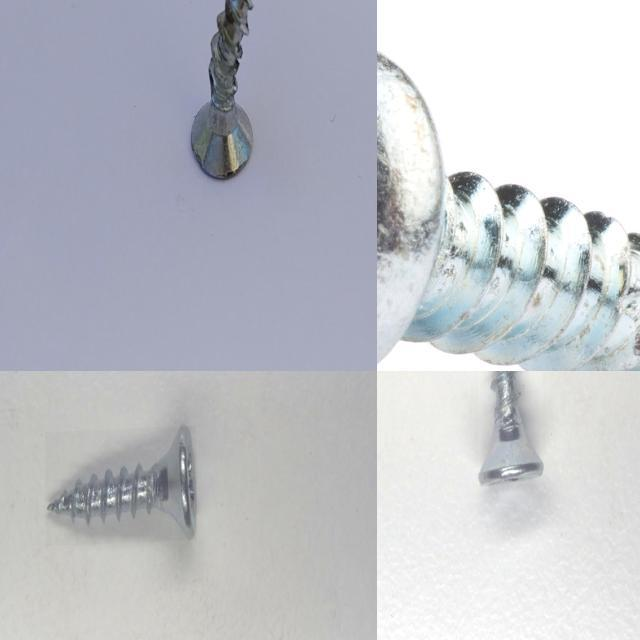Screw: (377, 53, 640, 371), (48, 424, 196, 537), (191, 0, 253, 178)
